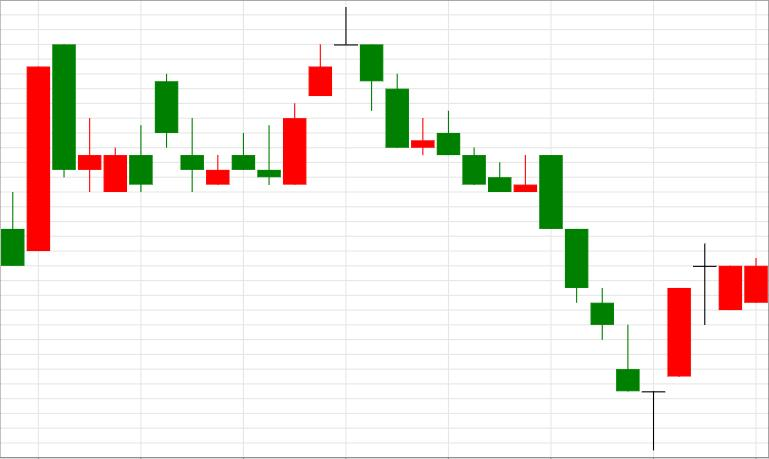evening_star_fall: (258, 7, 382, 186)
inverse_hammer_rise: (437, 111, 640, 391)
morning_star_rise: (539, 155, 691, 452)
